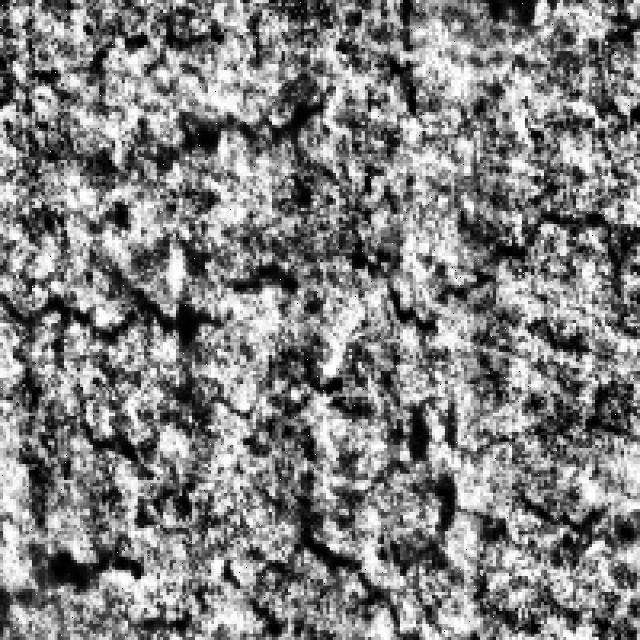Pitted_Surface: (19, 356, 630, 634), (86, 109, 634, 320)
